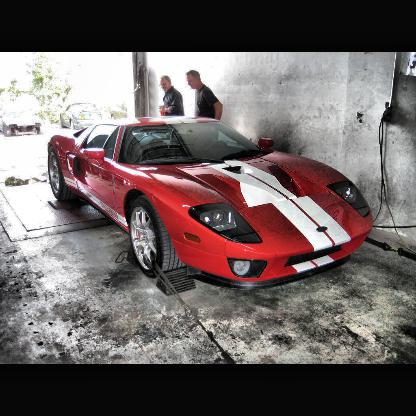Ford GT Coupe 2006: (50, 117, 374, 291)
